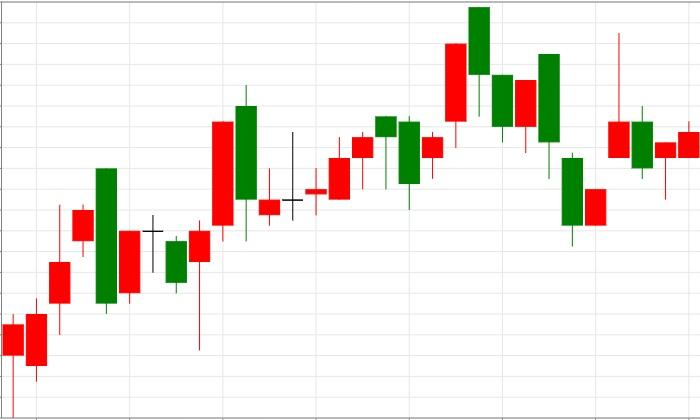bearish_engulfing_fall: (119, 85, 257, 350), (2, 168, 117, 418)
hanging_man_fall: (119, 85, 398, 349)
